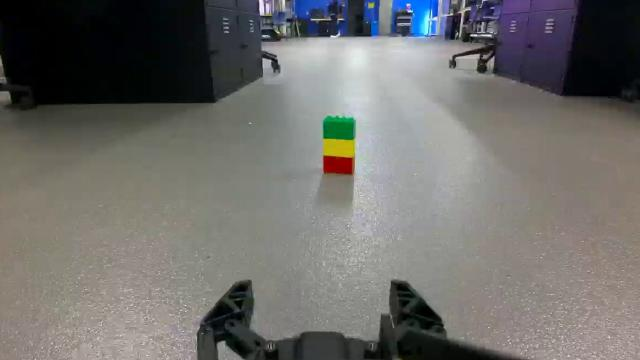lego: (326, 118, 356, 176)
